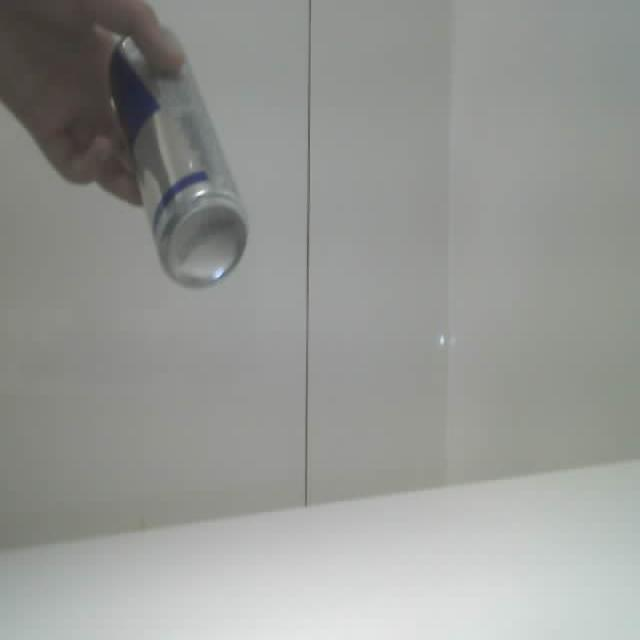redbull can: (110, 38, 246, 286)
